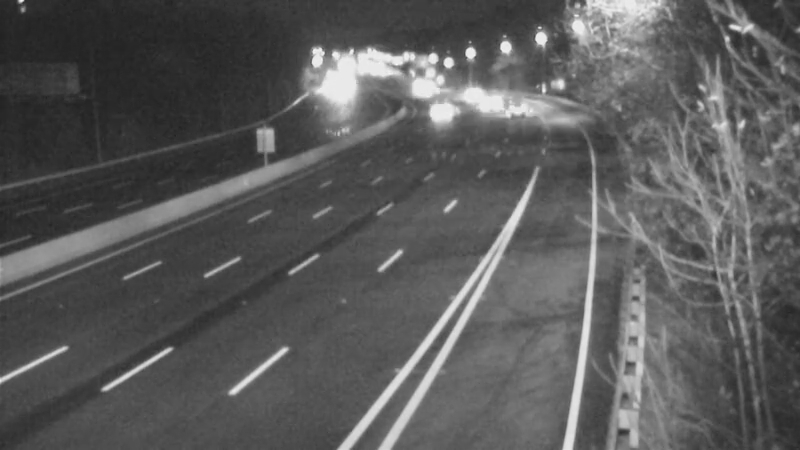vehicle: (445, 69, 495, 119), (460, 81, 510, 131), (406, 89, 456, 139), (502, 80, 552, 130)
